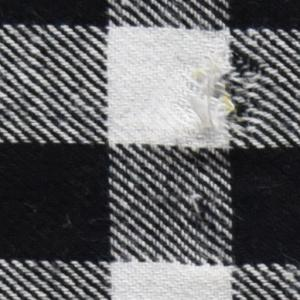Damage: (189, 35, 284, 141), (175, 184, 221, 233)
